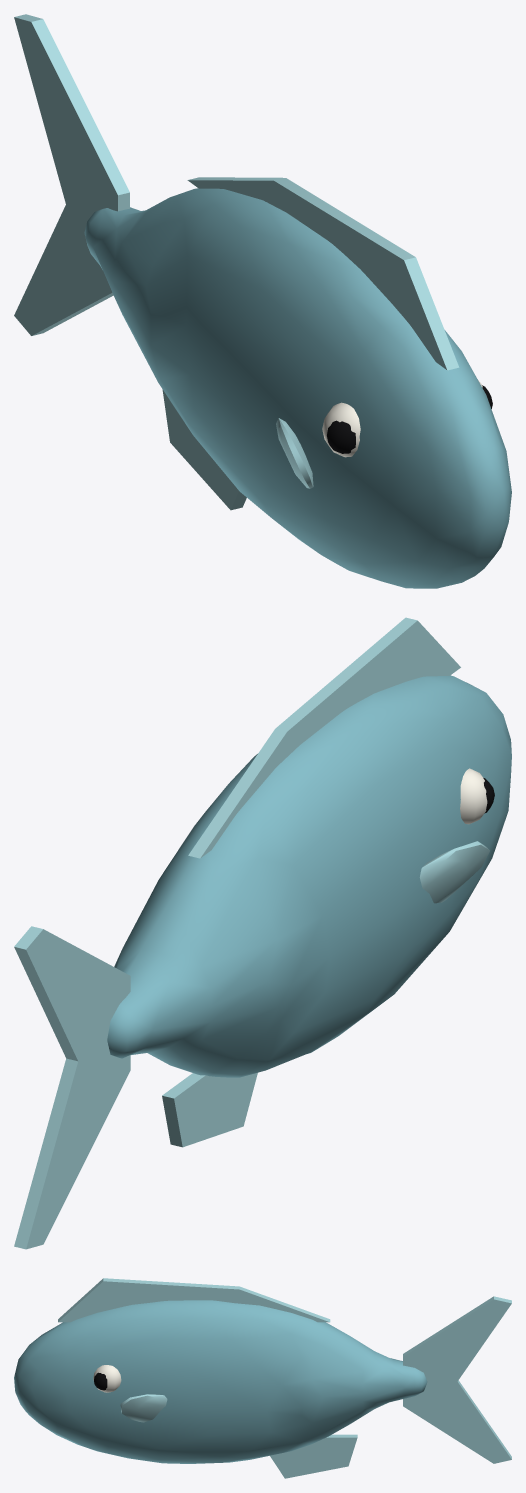
The model's file is chromis.glb.
The picture shows the model from 3 angles, top to bottom: view 1: azimuth 30°, elevation 25°; view 2: azimuth 150°, elevation 25°; view 3: azimuth 270°, elevation 25°; orthographic projection. The views are drawn at different scales.
Parts seen in each view (by area): view 1: body, tail, dorsal, anal, pectoral_mx, eye_mx, pupil_mx; view 2: body, tail, dorsal, anal, pectoral_mx, eye_mx; view 3: body, tail, dorsal, anal, pectoral, eye.
Boxes of the visible parts, x1,y1,x2,y2 form: body: (84, 188, 511, 588); tail: (14, 14, 129, 335); dorsal: (187, 177, 459, 370); anal: (162, 389, 246, 510); pectoral_mx: (276, 418, 313, 488); eye_mx: (322, 402, 360, 457); pupil_mx: (327, 420, 355, 453); body: (107, 675, 511, 1077); tail: (14, 926, 130, 1249); dorsal: (188, 617, 460, 858); anal: (162, 1072, 257, 1147); pectoral_mx: (419, 841, 489, 903); eye_mx: (460, 768, 487, 824); body: (14, 1300, 427, 1463); tail: (403, 1296, 511, 1463); dorsal: (58, 1278, 330, 1322); anal: (270, 1434, 357, 1478); pectoral: (120, 1394, 167, 1422); eye: (93, 1365, 121, 1392).
Size of the model in its own units: 0.2549 by 0.48 by 1.1.
